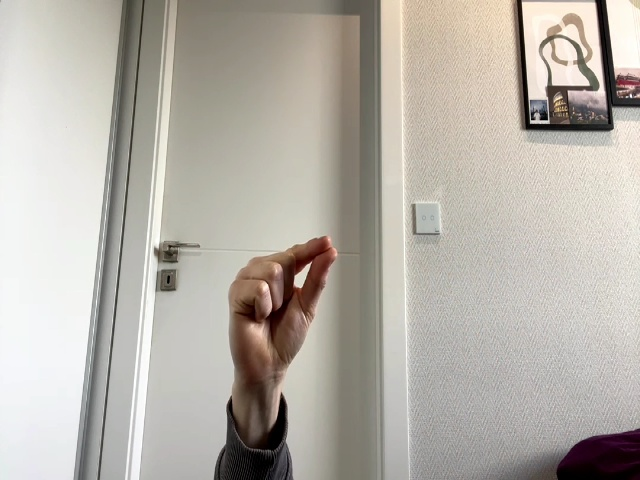P: (229, 236, 337, 381)
